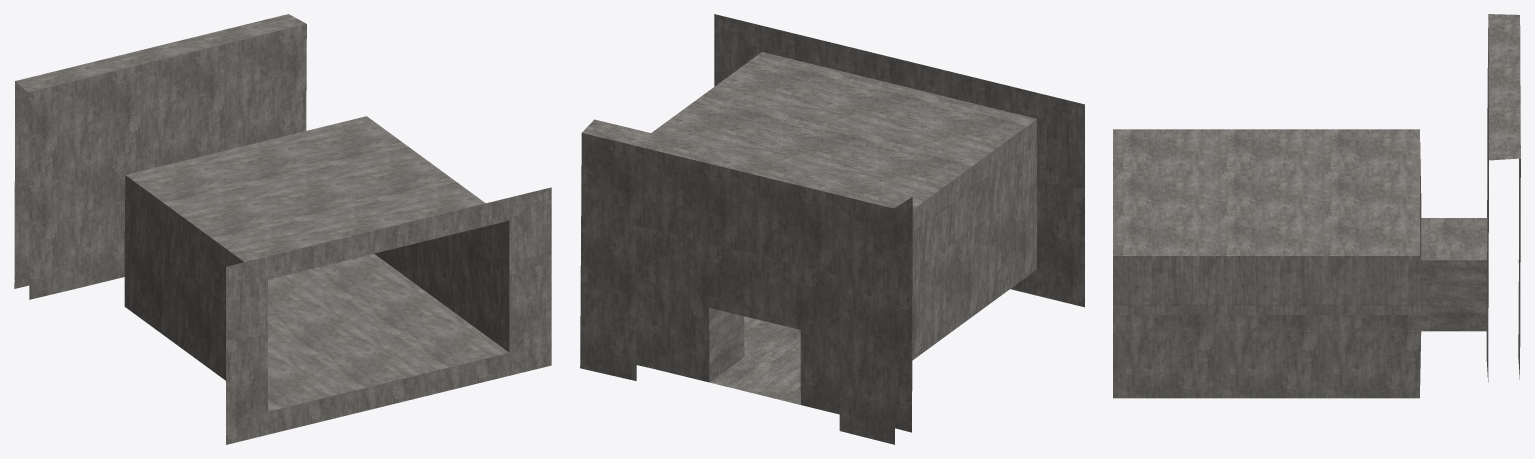
File: niosh_startingarea_connector.dae
3 views of the same model, side by side, from view 1: azimuth 30°, elevation 25°; view 2: azimuth 150°, elevation 25°; view 3: azimuth 270°, elevation 25° (orthographic). The views are drawn at different scales.
Visible parts, largest first — view 1: Concrete01, Concrete02; view 2: Concrete01, Concrete02; view 3: Concrete01, Concrete02.
Boxes of the visible parts, x1=… form: Concrete01: x1=14, y1=14, x2=551, y2=444; Concrete02: x1=125, y1=175, x2=551, y2=340; Concrete01: x1=580, y1=14, x2=1084, y2=444; Concrete02: x1=714, y1=14, x2=1084, y2=271; Concrete01: x1=1113, y1=14, x2=1520, y2=398; Concrete02: x1=1113, y1=142, x2=1420, y2=314.
Size of the model in its own units: 759 by 715 by 480.
Materials: 2 (2 with a texture image).
